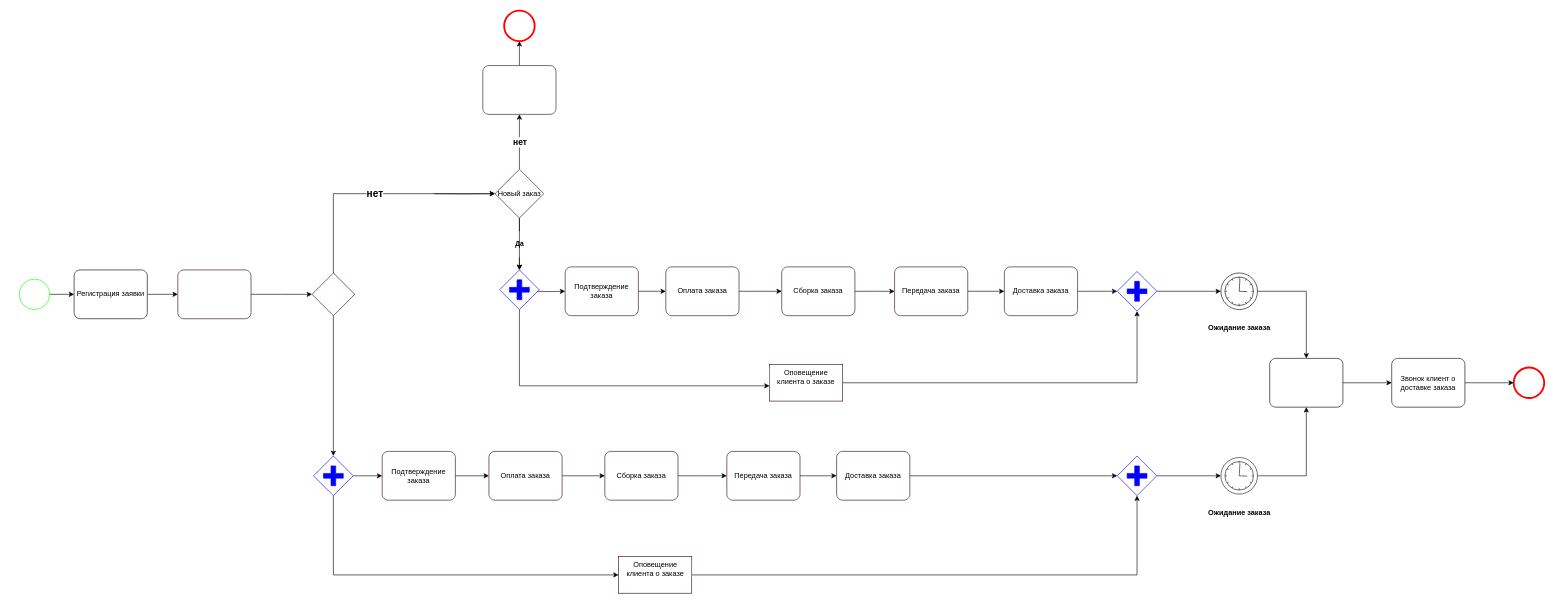
This 1555x604 diagram has some shape labels left out. The shapes that lost their labels are listed below. From the top down, each one's centre as x and y in pixels, then its label:
pixel 519 89: Звонок клиенту
pixel 34 294: Заказ клиента
pixel 214 294: Подтверждение заявки
pixel 333 294: Товар есть на складе
pixel 1306 382: Получение заказа
